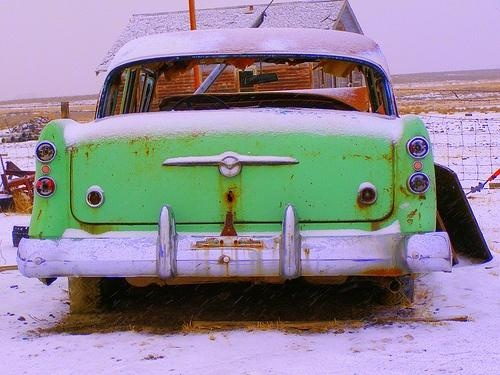car: (16, 28, 454, 315)
